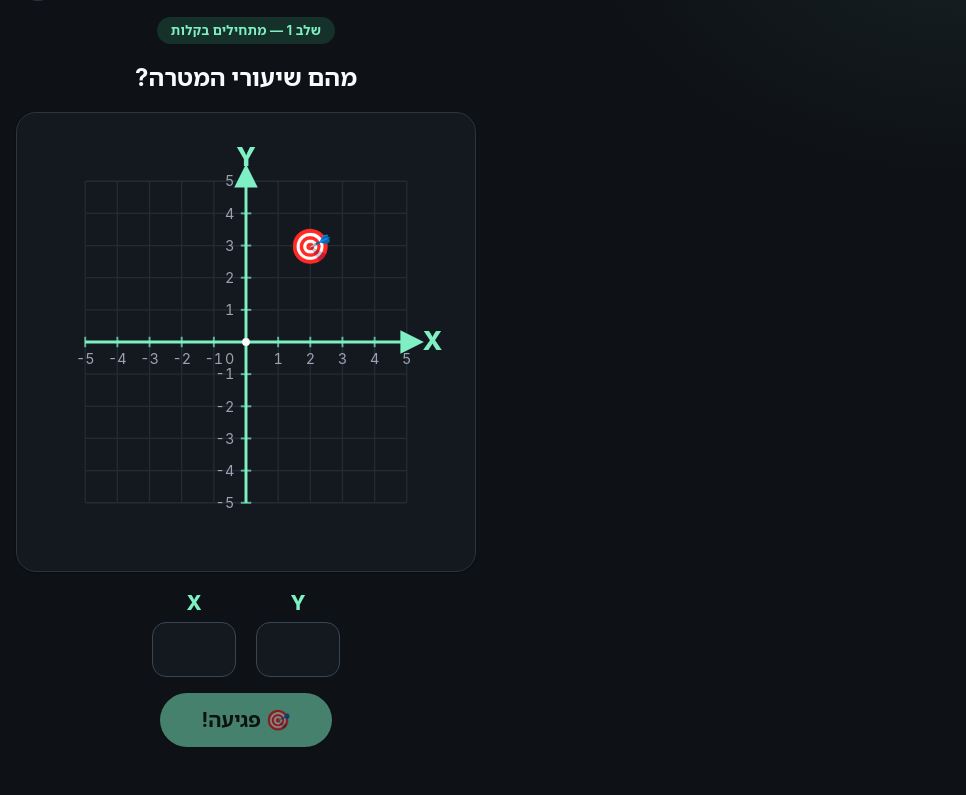
Hit the Target › gives a targeted hint when the student swaps X and Y
(page scrolled)
Type "3" into the field labelled "X" at [194, 650], box [152,622,236,677]
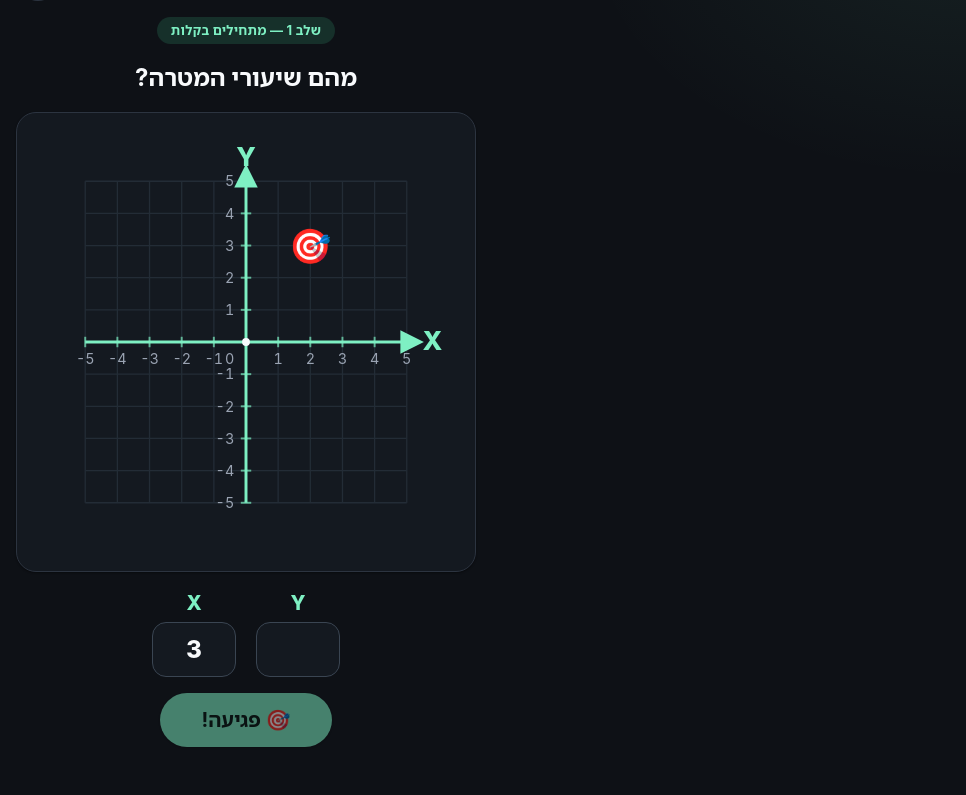
Type "2" into the field labelled "Y" at [298, 650], box [256,622,340,677]
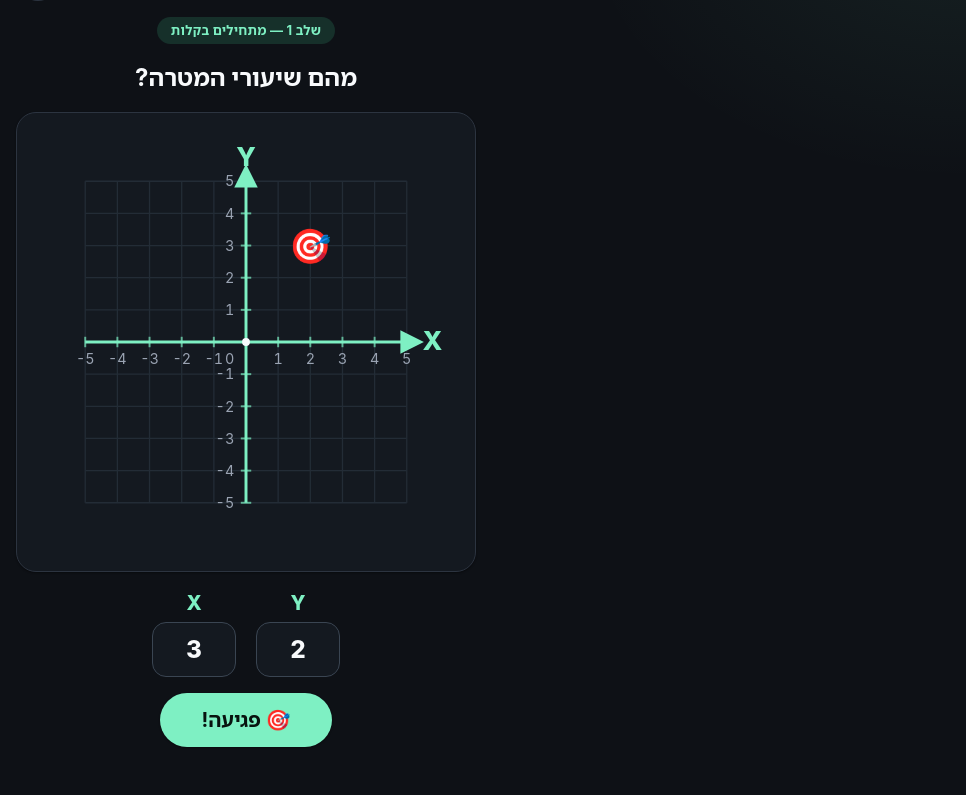
Click the button "🎯 פגיעה!" at [246, 720], box [160,693,332,747]
Wait 200 ms
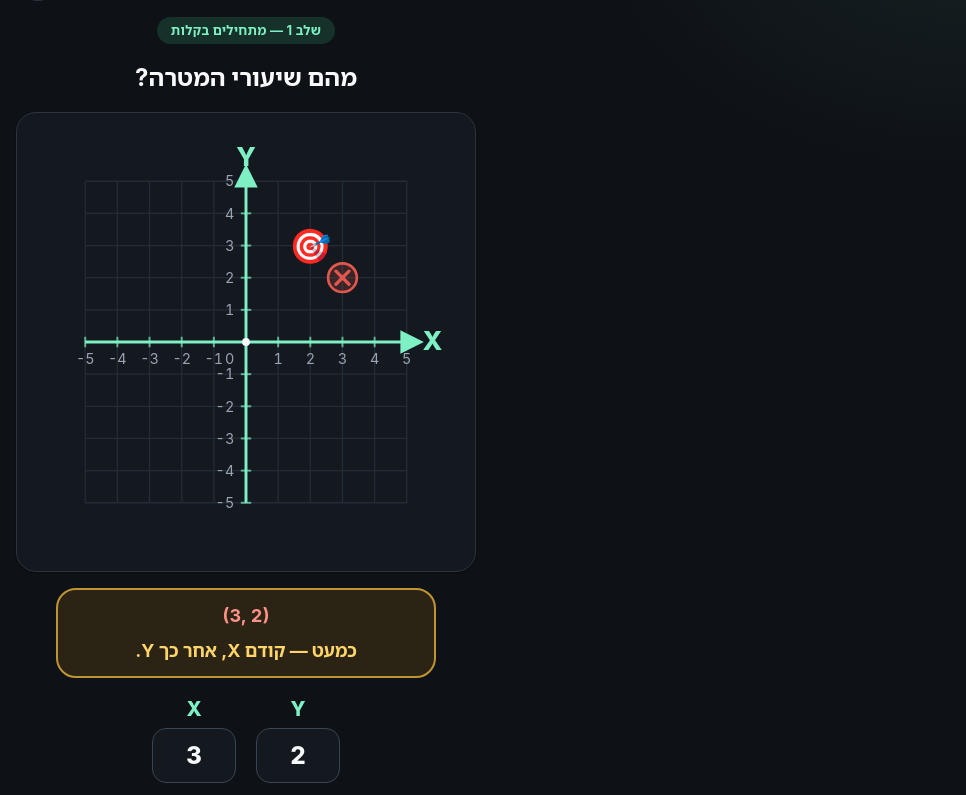
Check: the text "כמעט — קודם X, אחר כך Y." is shown, box [135,637,357,664]
